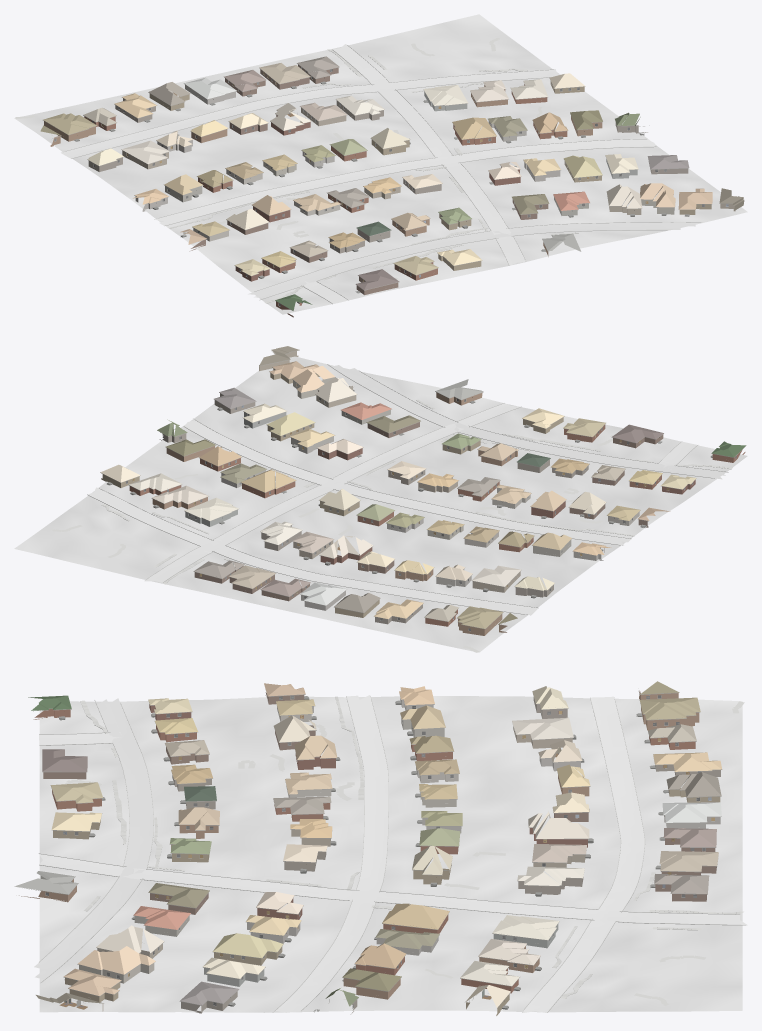
The picture shows the model from 3 angles, top to bottom: view 1: azimuth 30°, elevation 25°; view 2: azimuth 150°, elevation 25°; view 3: azimuth 270°, elevation 25°; orthographic projection. The views are drawn at different scales.
Visible parts, largest first — view 1: ground, roof, concrete, wall, curb, detail, walk, wall_stucco, wall_stone, glass; view 2: ground, roof, concrete, wall, detail, curb, walk, wall_stucco, wall_stone, glass; view 3: ground, roof, concrete, wall, detail, curb, walk, wall_stucco, wall_stone, glass.
Boxes of the visible parts, x1,y1,x2,y2 form: ground: [14, 14, 747, 314]; roof: [40, 56, 744, 310]; concrete: [61, 44, 695, 303]; wall: [44, 64, 735, 317]; curb: [64, 45, 702, 303]; detail: [43, 63, 734, 310]; walk: [15, 38, 578, 303]; wall_stucco: [165, 91, 674, 241]; wall_stone: [135, 85, 560, 211]; glass: [54, 67, 704, 306]; ground: [14, 356, 747, 652]; roof: [100, 346, 745, 628]; concrete: [88, 365, 725, 615]; wall: [101, 351, 745, 635]; detail: [100, 350, 746, 631]; curb: [87, 364, 731, 614]; walk: [52, 399, 732, 652]; wall_stucco: [185, 377, 639, 556]; wall_stone: [221, 436, 604, 610]; glass: [126, 397, 736, 630]; ground: [39, 696, 742, 1012]; roof: [14, 681, 721, 1007]; concrete: [34, 695, 747, 1012]; wall: [19, 690, 720, 1015]; detail: [24, 691, 722, 1012]; curb: [38, 696, 745, 1012]; walk: [65, 696, 744, 1005]; wall_stucco: [79, 706, 558, 986]; wall_stone: [247, 698, 720, 955]; glass: [45, 695, 705, 1008].
Bounding box in the file's own units: 259 × 15.96 × 261.
